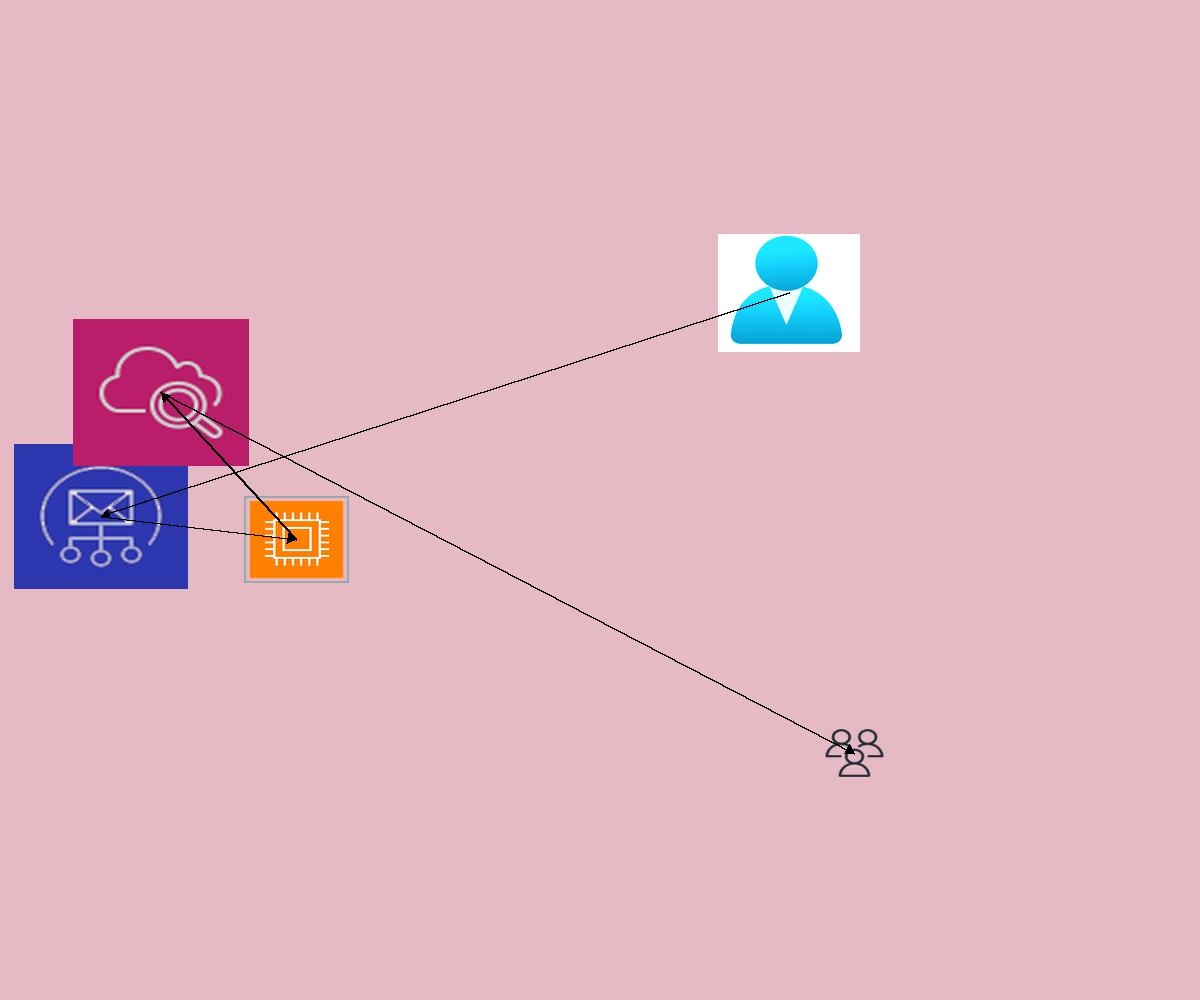AWS-Category_Compute: (244, 496, 349, 583)
AWS-CloudWatch: (73, 319, 249, 466)
AWS-Res_Users: (823, 727, 886, 779)
AWS-Simple-Email-Service: (14, 444, 188, 589)
Azure_users: (718, 234, 860, 352)
